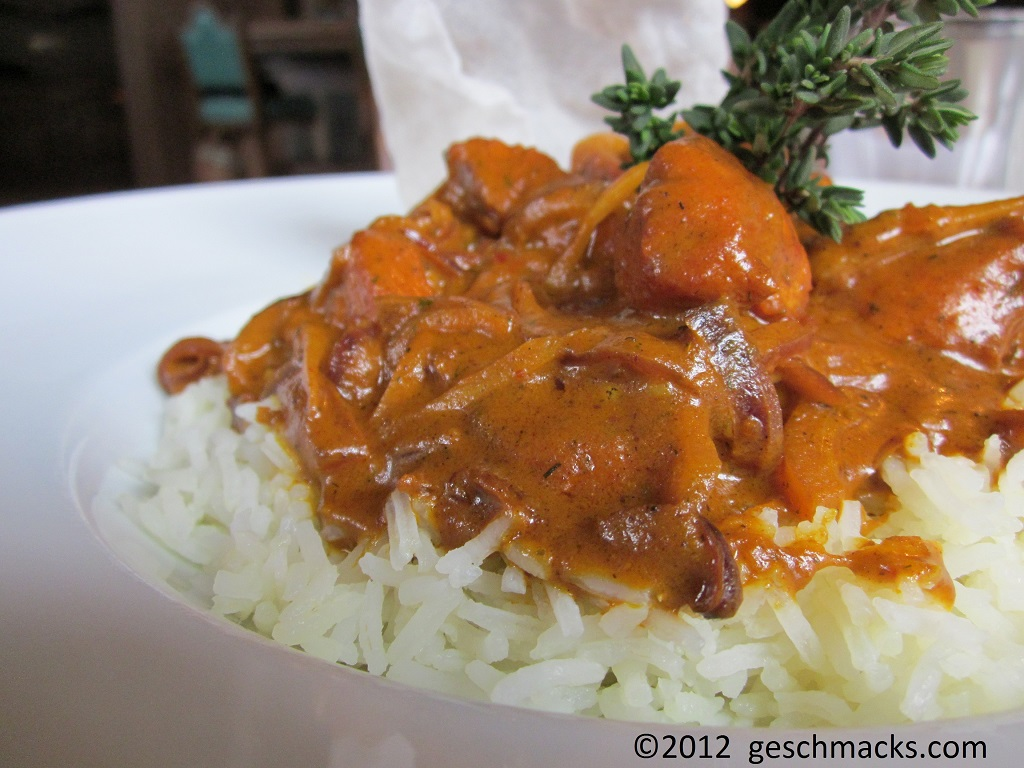plain rice: (128, 455, 1024, 718)
